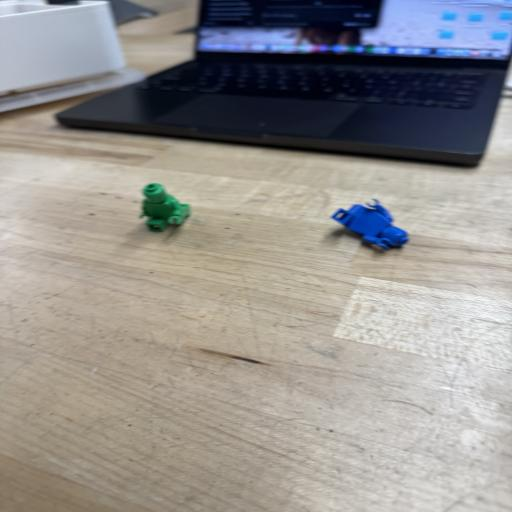blue-minifig: (331, 200, 409, 249)
green-minifig: (140, 183, 190, 231)
